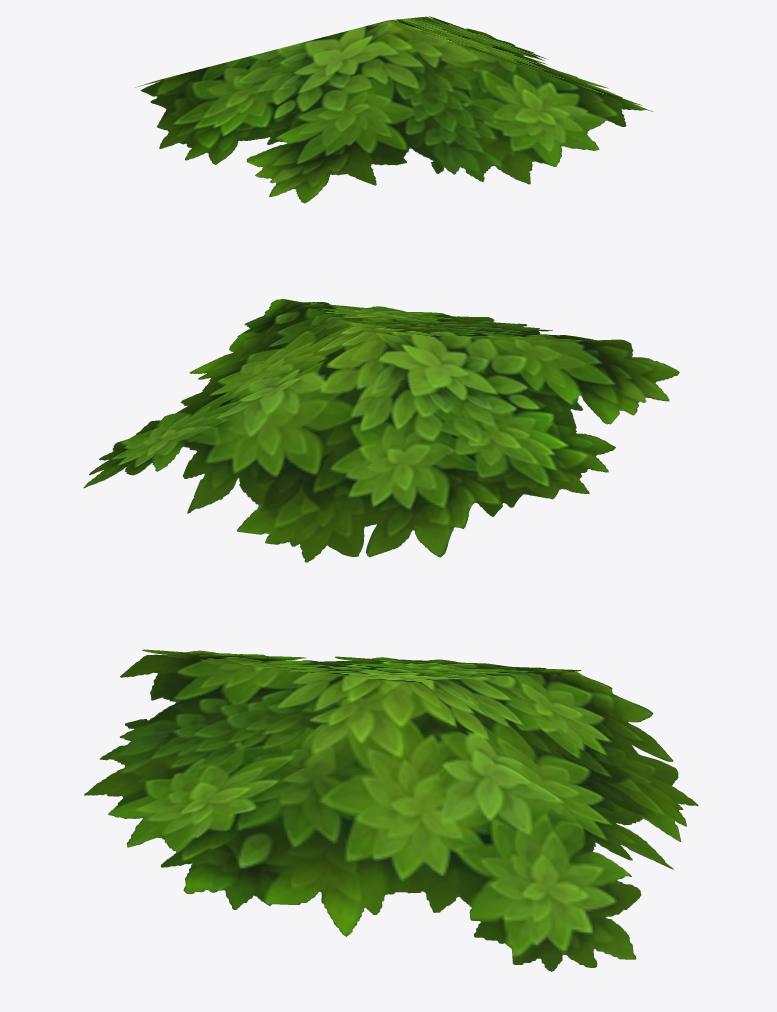
Rendered from sl_guanmu05.FBX.
3 views of the same model, one above another, from view 1: azimuth 30°, elevation 25°; view 2: azimuth 150°, elevation 25°; view 3: azimuth 270°, elevation 25° (orthographic). The views are drawn at different scales.
Parts seen in each view (by area): view 1: sl_guanmu05; view 2: sl_guanmu05; view 3: sl_guanmu05.
Boxes of the visible parts, bbox=[...] form: sl_guanmu05: bbox=[135, 16, 653, 203]; sl_guanmu05: bbox=[83, 299, 679, 562]; sl_guanmu05: bbox=[84, 649, 698, 971].
Bounding box in the file's own units: 187 × 50.38 × 182.
Materials: 1 (1 with a texture image).
